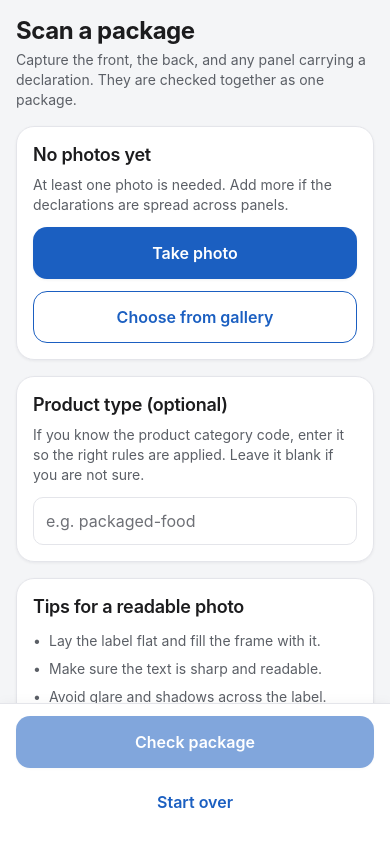
ScanScreen › explains a refused camera permission and adds nothing
The width and height of the screenshot is (390, 844).
Click the button with test id "take-photo": (195, 253) 33,227 -> 357,279
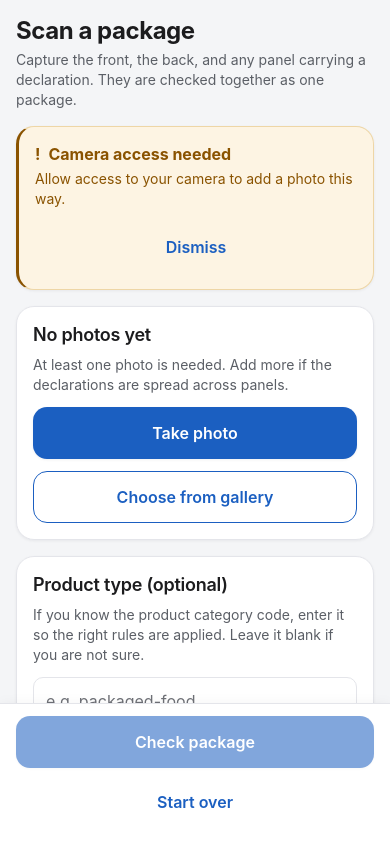
expect the message with test id "selection-issue" shows "Camera access needed": met, box 48,144 -> 231,164
